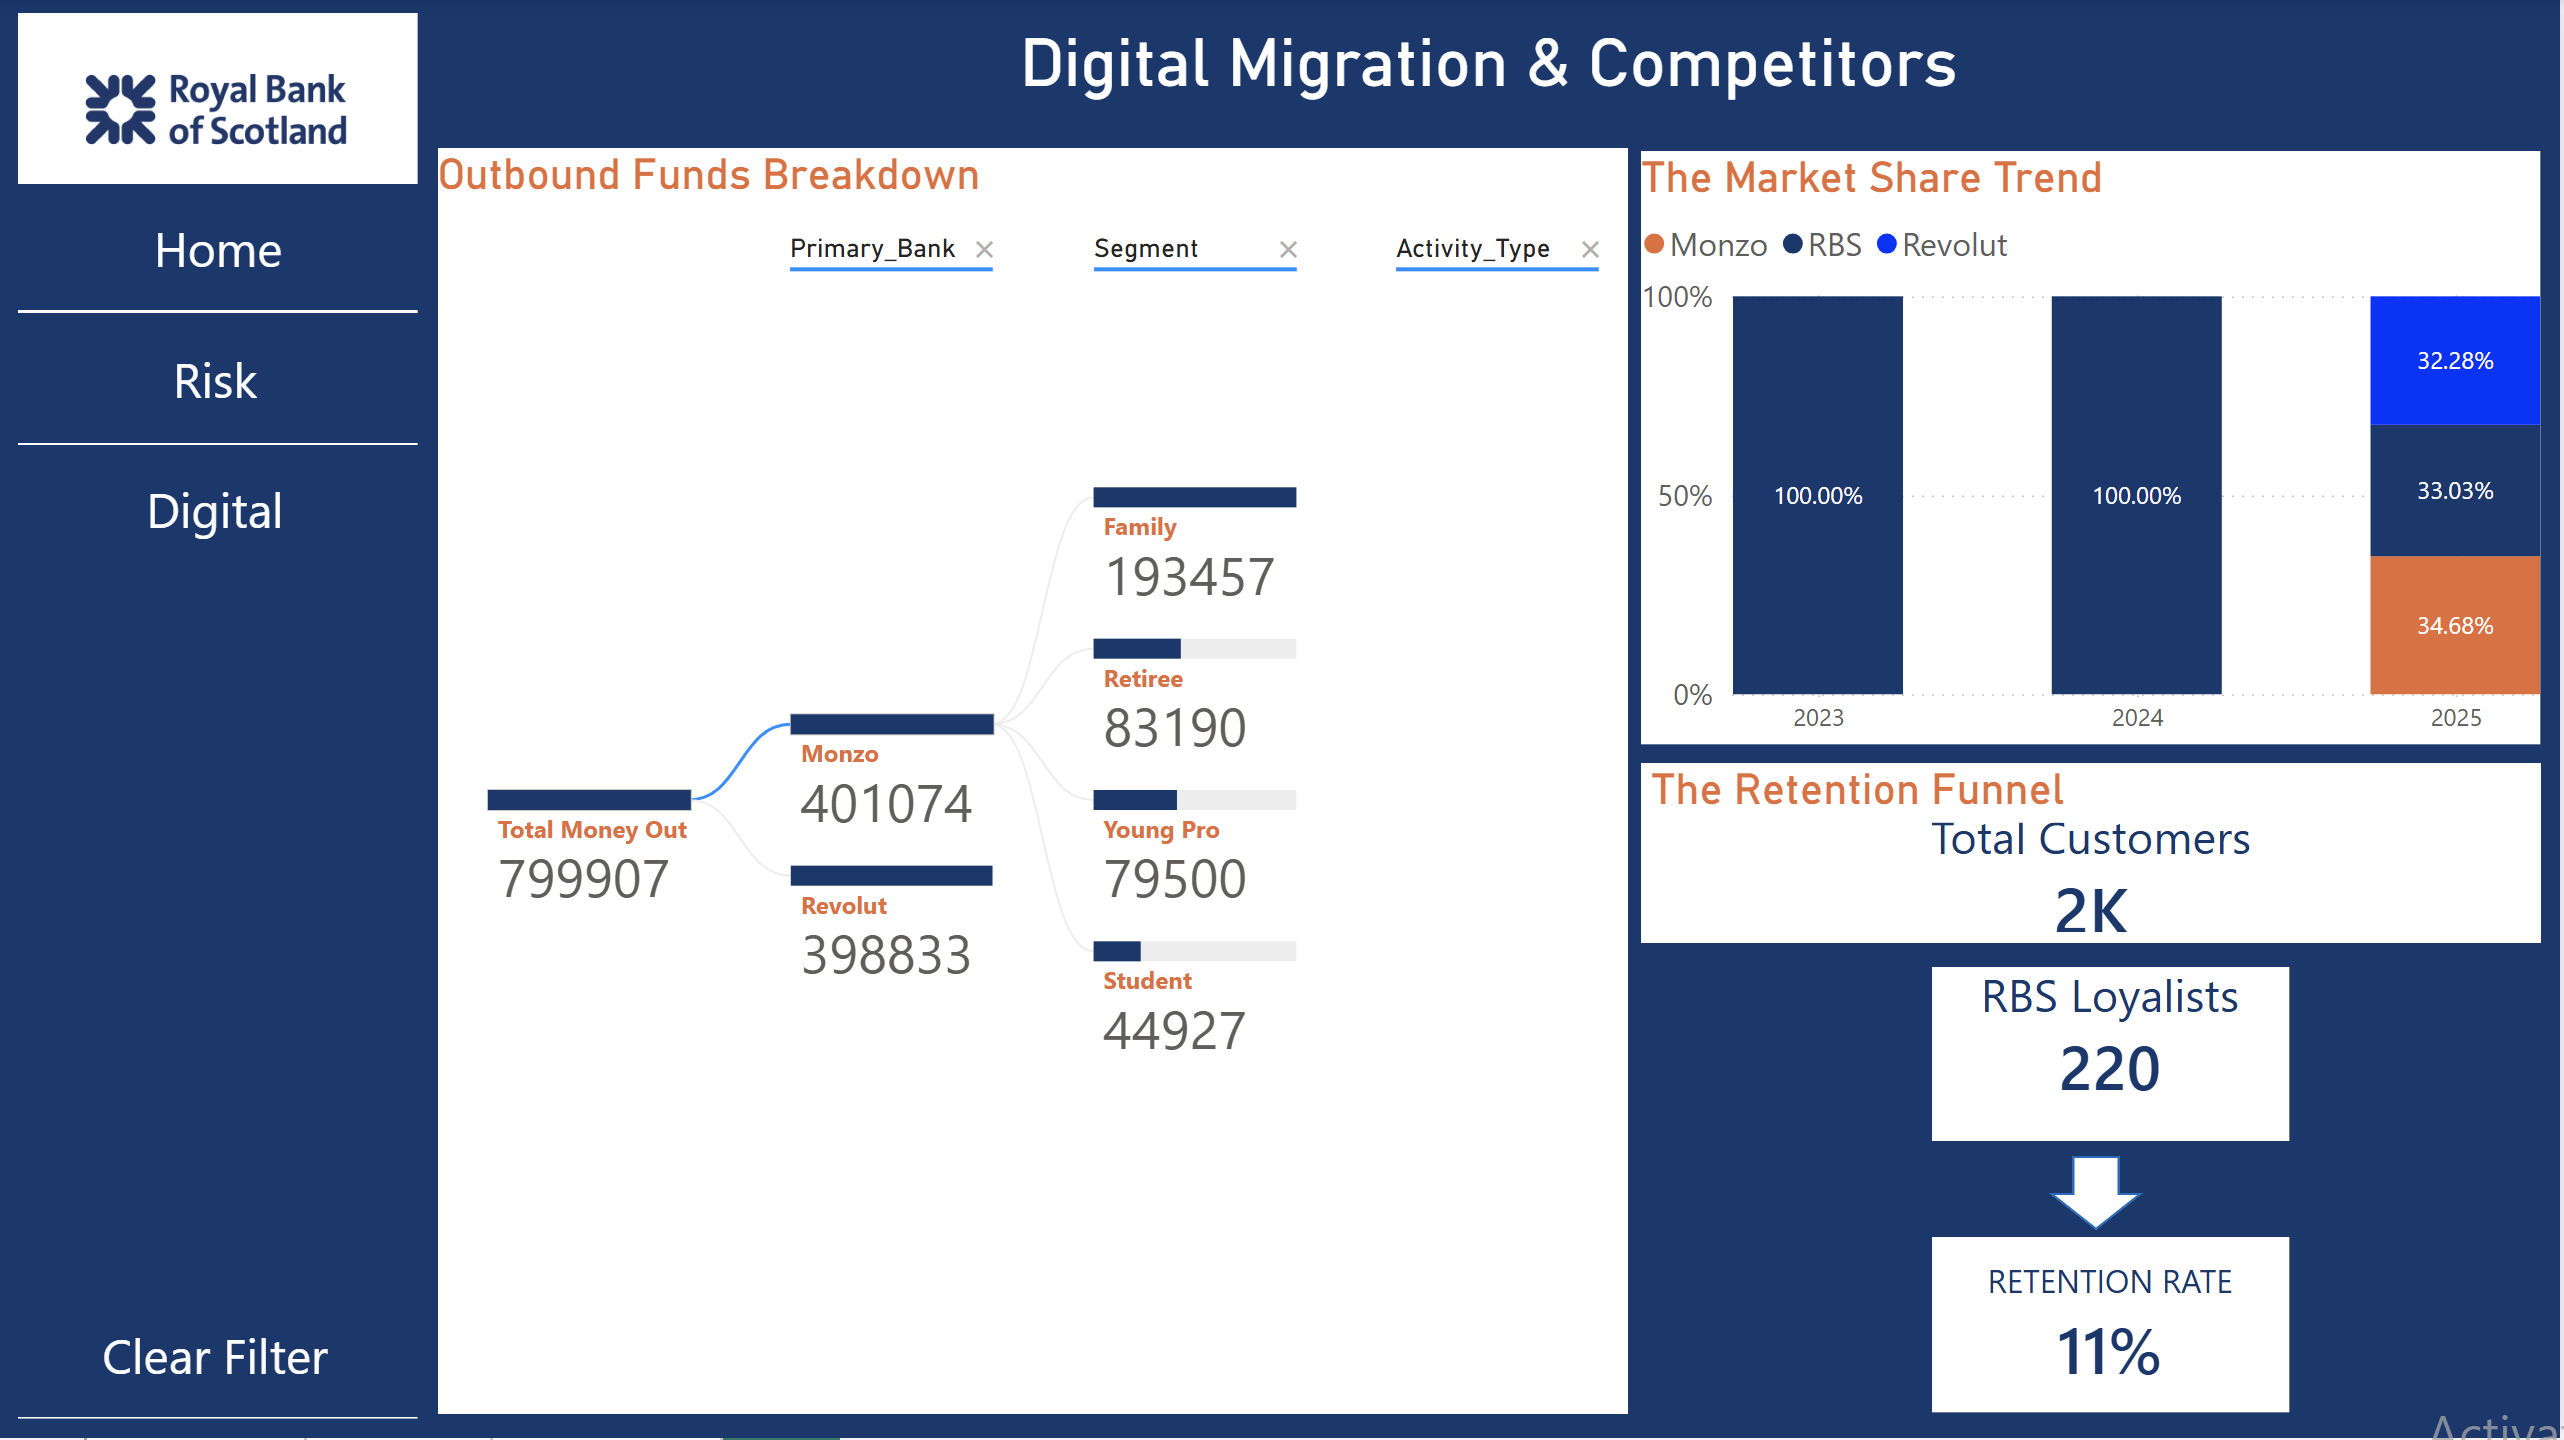

The dashboard page shown, as its layout file describes it:
{"tool":"powerbi","page":{"name":"Digital","canvas":[1280,720],"ordinal":2},"visuals":[{"type":"textbox","title":"CREDIT RISK","box":[219.2,8.1,1051.1,64.5],"z":1000},{"type":"shape","box":[9,7,199.9,702.9],"z":2000},{"type":"image","box":[9.7,8.1,198.3,96],"z":3000},{"type":"shape","box":[7,93.5,203,63],"z":4000},{"type":"shape","box":[6,158,203,65],"z":5000},{"type":"shape","box":[7,286,204,187],"z":6000},{"type":"shape","box":[6.7,224,203,63],"z":7000},{"type":"shape","box":[6,647,203,63],"z":8000},{"type":"shape","box":[6,473,204,176],"z":9000},{"type":"decompositionTreeVisual","title":"Outbound Funds Breakdown","fields":{"ExplainBy":["Monthly_Activity_R.Primary_Bank","Customer_R.Segment","Monthly_Activity_R.Activity_Type"],"Analyze":["Monthly_Activity_R.Total Money Out"]},"box":[219.2,75,595,633],"z":9001},{"type":"hundredPercentStackedColumnChart","title":"The Market Share Trend","fields":{"Category":["Monthly_Activity_R.Date.Variation.Date Hierarchy.Year"],"Series":["Monthly_Activity_R.Primary_Bank"],"Y":["Monthly_Activity_R.Total Activity Volume"]},"box":[820.6,75.8,449.8,296.6],"z":9002},{"type":"cardVisual","title":" The Retention Funnel","fields":{"Data":["Monthly_Activity_R.TotalTxns"]},"box":[820.6,383,450,90],"z":9003},{"type":"cardVisual","fields":{"Data":["Monthly_Activity_R.RBS Loyalists"]},"box":[966.3,484,178.8,87],"z":9004},{"type":"cardVisual","fields":{"Data":["Monthly_Activity_R.RETENTION RATE"]},"box":[966.3,618.9,178.8,87.7],"z":9005},{"type":"shape","box":[1024,579,47,37],"z":9006}]}

Visuals, with their boxes in screenshot pixels (x1, y1, x2, y2), scaled from the page's 1280x720 canvas onto the 2564x1440 screenshot:
"CREDIT RISK" textbox: l=439, t=16, r=2545, b=145
shape: l=18, t=14, r=418, b=1420
image: l=19, t=16, r=417, b=208
shape: l=14, t=187, r=421, b=313
shape: l=12, t=316, r=419, b=446
shape: l=14, t=572, r=423, b=946
shape: l=13, t=448, r=420, b=574
shape: l=12, t=1294, r=419, b=1420
shape: l=12, t=946, r=421, b=1298
"Outbound Funds Breakdown" decompositionTreeVisual: l=439, t=150, r=1631, b=1416
"The Market Share Trend" hundredPercentStackedColumnChart: l=1644, t=152, r=2545, b=745
" The Retention Funnel" cardVisual: l=1644, t=766, r=2545, b=946
cardVisual - Monthly_Activity_R.RBS Loyalists: l=1936, t=968, r=2294, b=1142
cardVisual - Monthly_Activity_R.RETENTION RATE: l=1936, t=1238, r=2294, b=1413
shape: l=2051, t=1158, r=2145, b=1232
